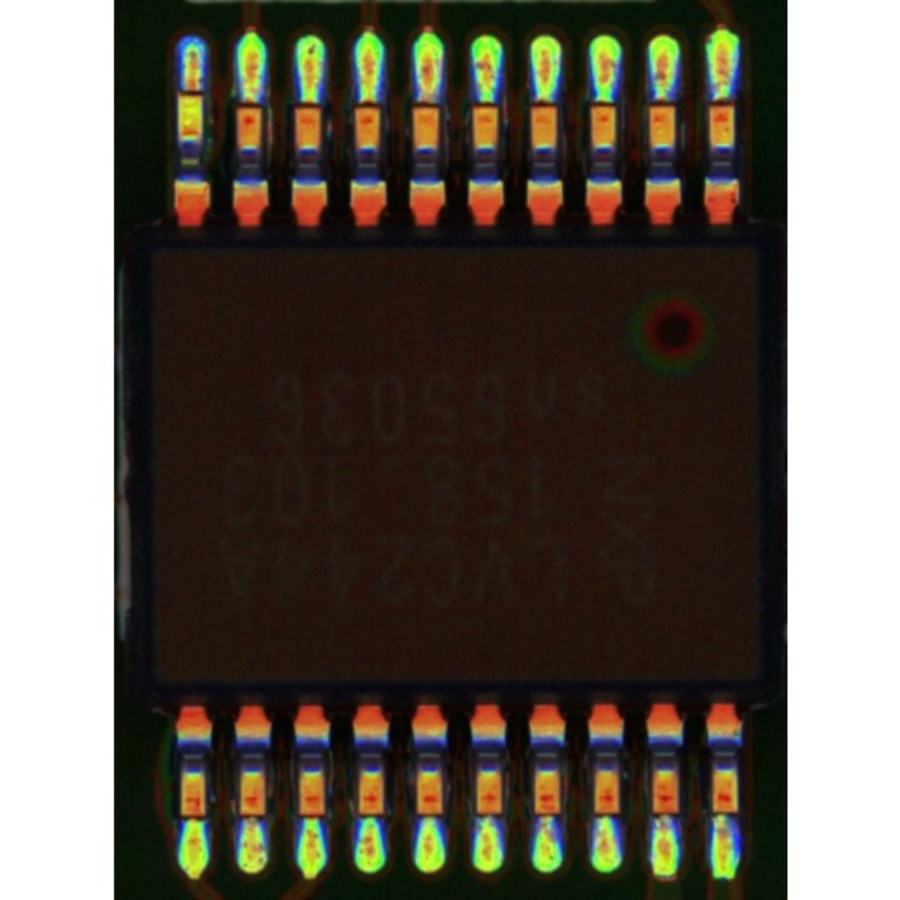Bad_podu: (184, 73, 198, 112)
